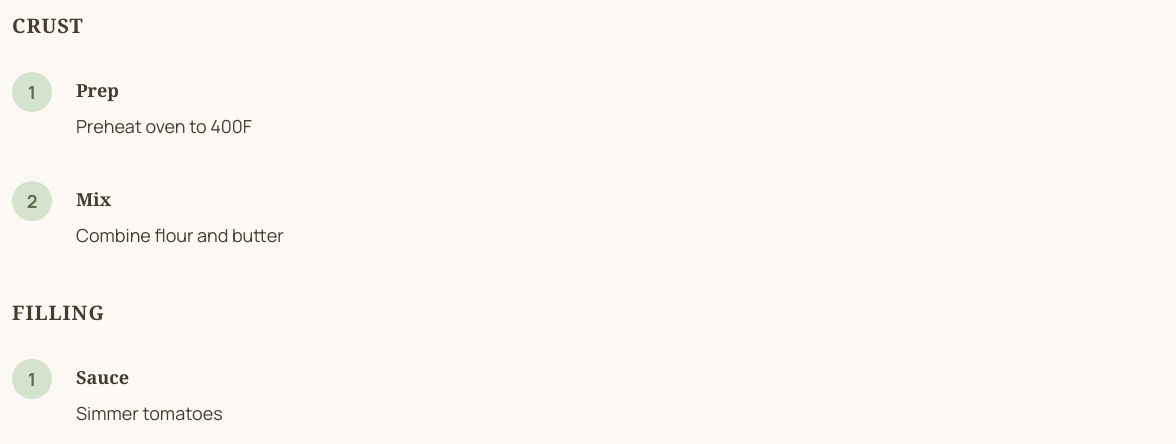
Test: StepsOrSections › strikes through steps independently across sections without rendering checkboxes
Click the button "1 Prep Preheat oven to 400F" at (32, 92), box [12,72,1164,141]
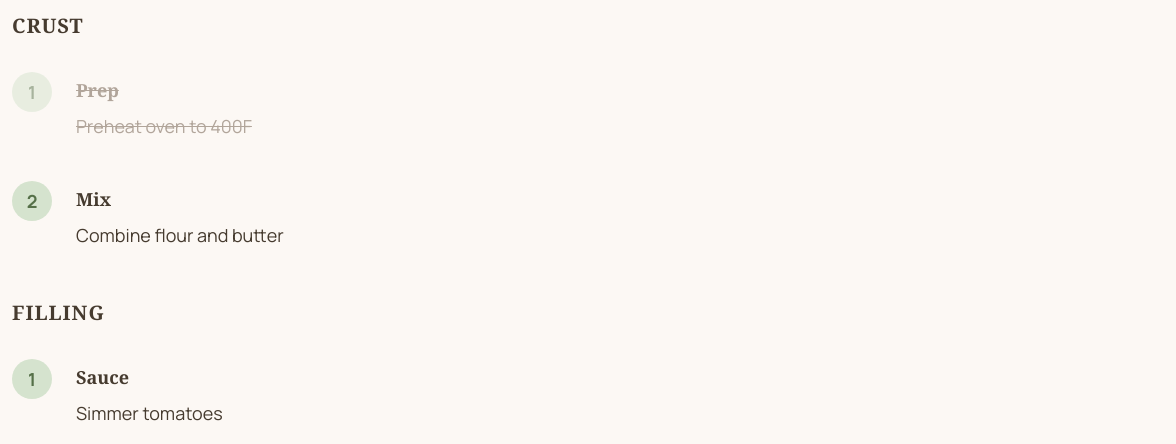
Now the button "1 Prep Preheat oven to 400F" is pressed
Now the text "Preheat oven to 400F" has class "line-through", box [76,114,252,138]
Now the heading "Prep" has class "line-through", box [76,78,119,102]
Click the button "1 Prep Preheat oven to 400F" at (32, 92), box [12,72,1164,141]
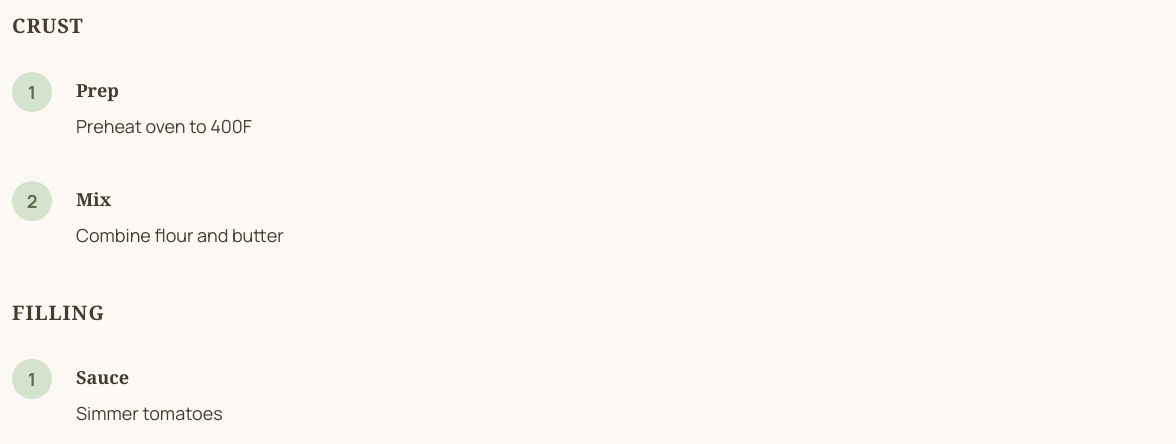
Now the button "1 Prep Preheat oven to 400F" is not pressed, box [12,72,1164,141]
